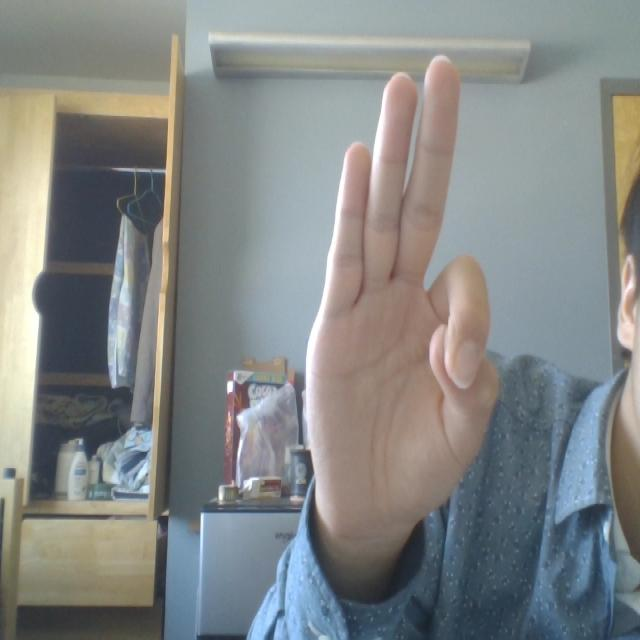F: (313, 30, 512, 568)
